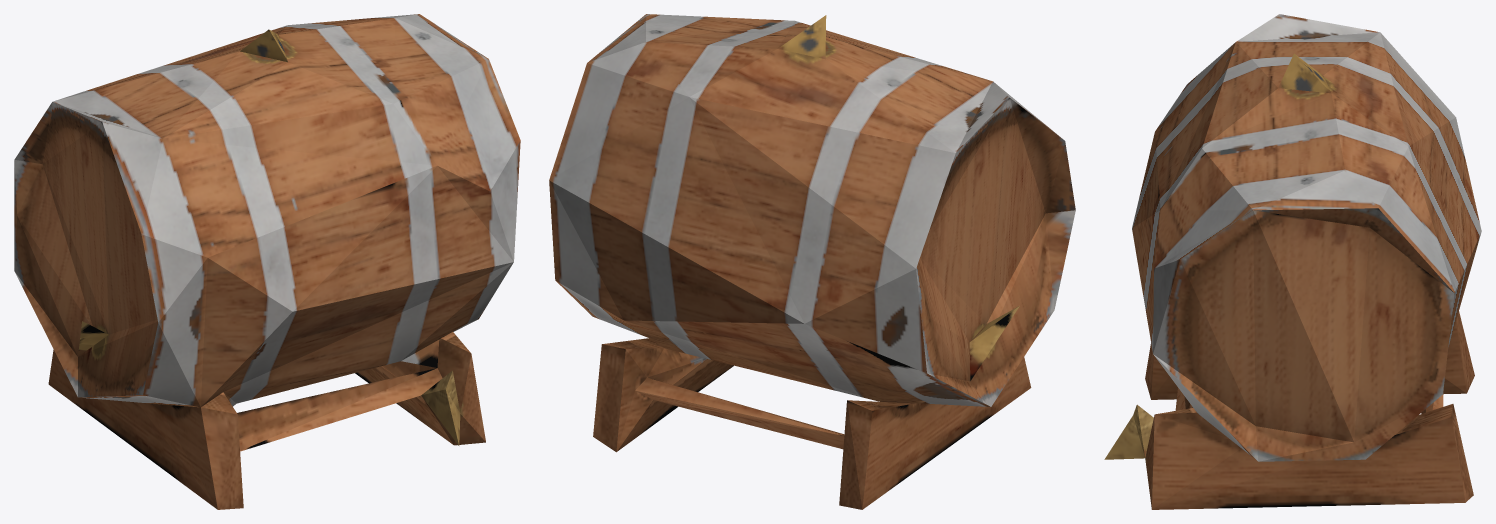
Rendered from keg_lod1.glb.
3 views of the same model, side by side, from view 1: azimuth 30°, elevation 25°; view 2: azimuth 150°, elevation 25°; view 3: azimuth 270°, elevation 25° (orthographic). The views are drawn at different scales.
Visible parts, largest first — view 1: geometry_0; view 2: geometry_0; view 3: geometry_0.
Boxes of the visible parts, x1,y1,x2,y2 form: geometry_0: (14,14,520,509); geometry_0: (549,14,1075,509); geometry_0: (1104,14,1481,509).
Size of the model in its own units: 0.6757 by 0.6672 by 0.5802.
1 material, 1 textured.
